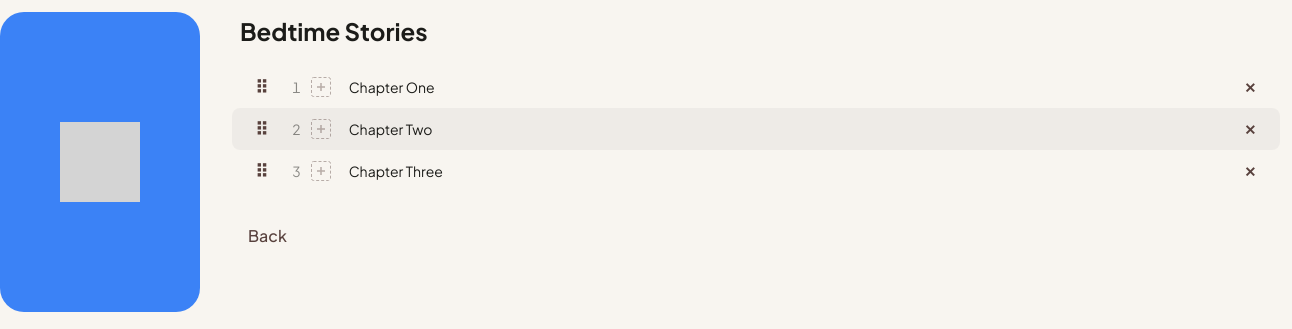
Test: CardEditor › delete removes a track
Check: the 1st field showing "Chapter One" is shown, box [341,74,1228,100]
AIDEV-NOTE: Two-click delete — first click shows "Delete?", second confirms
Click the button named "delete track": (1250, 87) [1236,74,1264,100]
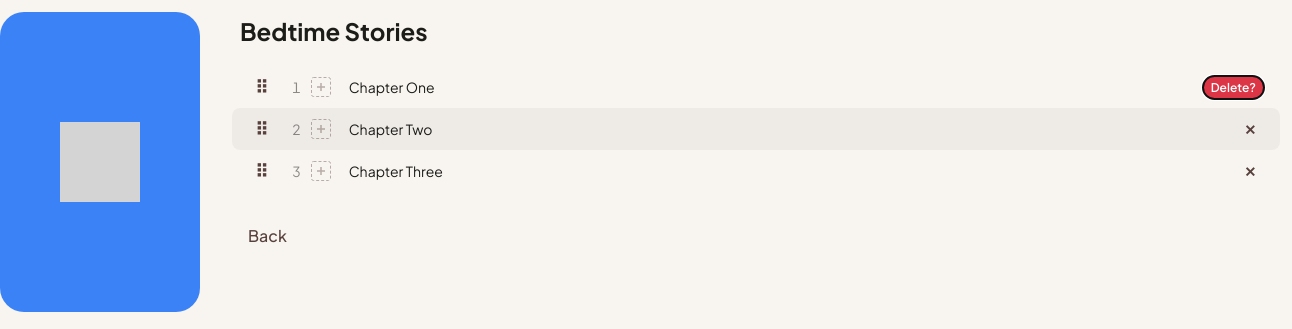
Click the button with aria-label "confirm delete": (1233, 87) [1203,76,1264,98]
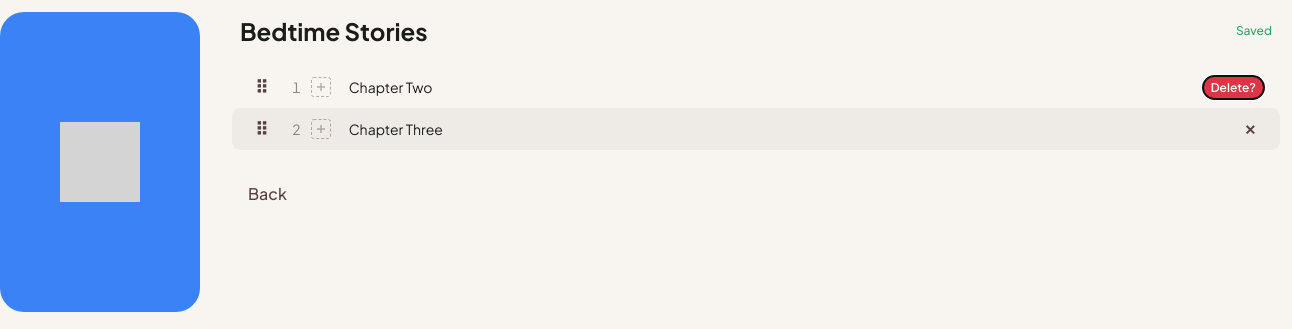
Check: the field showing "Chapter One" is not shown
Check: the 1st field showing "Chapter Two" is shown, box [341,74,1195,100]
